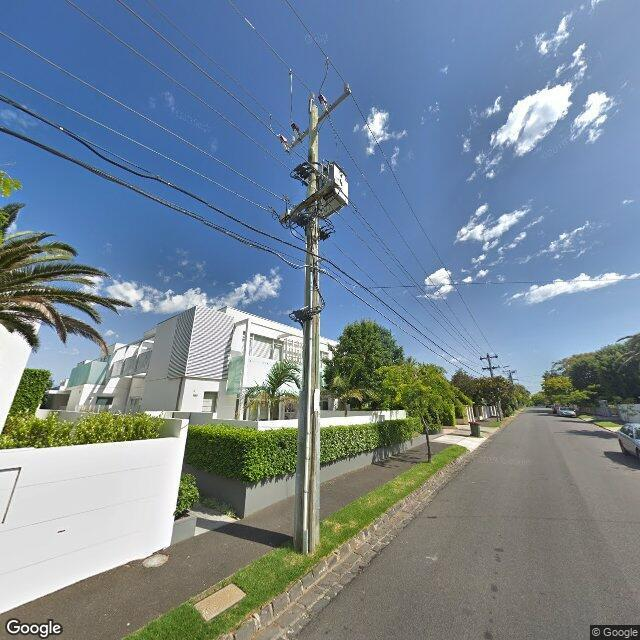HV-transmission: (268, 59, 353, 154), (480, 353, 498, 360)
crossarm: (289, 90, 352, 150), (280, 177, 340, 224), (482, 366, 500, 370), (480, 356, 498, 360), (503, 371, 515, 373), (506, 379, 518, 380)
timber-pole: (293, 104, 322, 556), (487, 354, 502, 420), (508, 370, 513, 383)
transformer: (290, 161, 351, 230)
